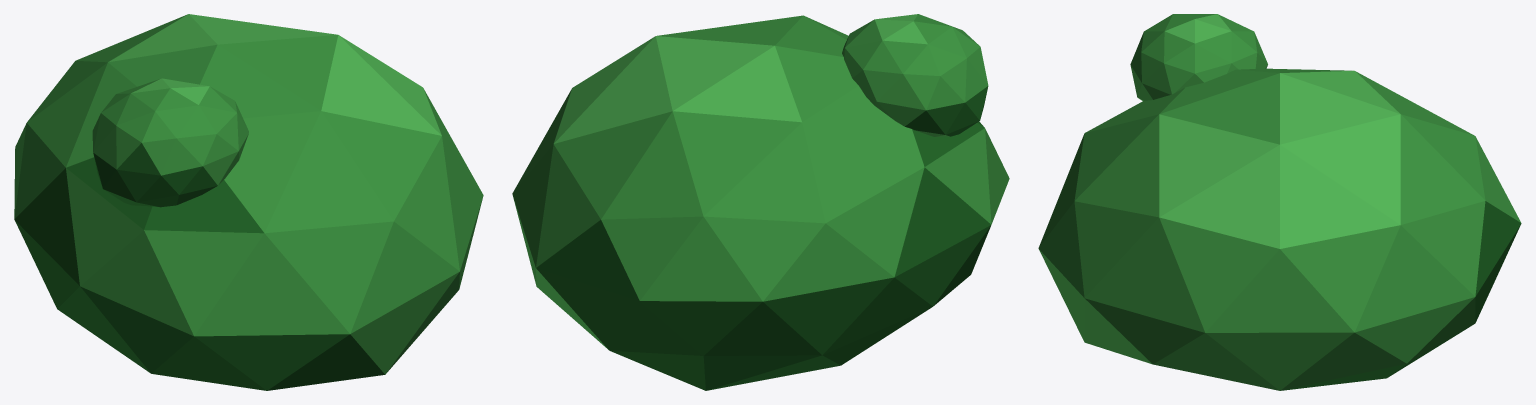
File: bush.fbx
3 views of the same model, side by side, from view 1: azimuth 30°, elevation 25°; view 2: azimuth 150°, elevation 25°; view 3: azimuth 270°, elevation 25° (orthographic). The views are drawn at different scales.
Parts seen in each view (by area): view 1: Icosphere; view 2: Icosphere; view 3: Icosphere.
Boxes of the visible parts, x1,y1,x2,y2 form: Icosphere: (14, 14, 483, 390); Icosphere: (512, 14, 1009, 390); Icosphere: (1038, 14, 1521, 390).
Bounding box in the file's own units: 7.14 × 8.13 × 5.33.
